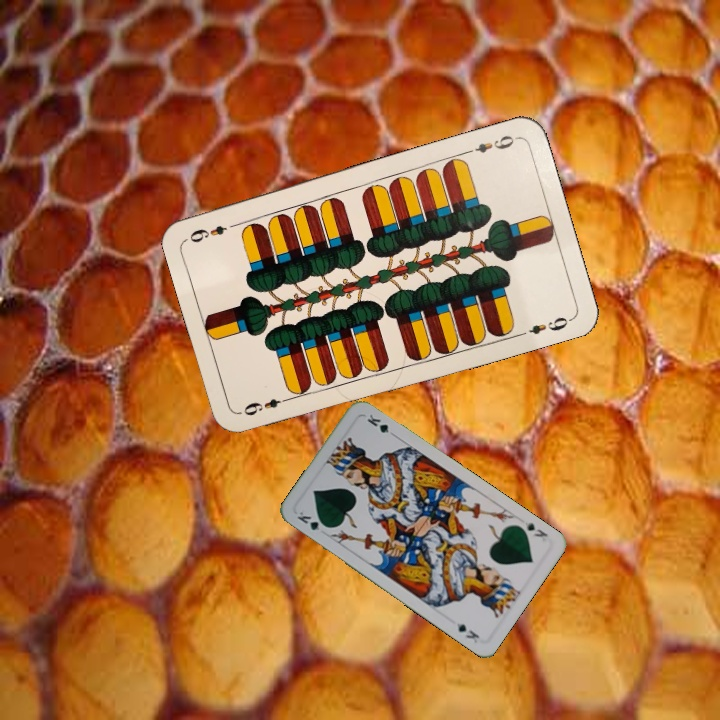E9: (462, 131, 520, 158), (239, 392, 295, 419)
GK: (293, 506, 331, 534), (520, 517, 550, 540)
